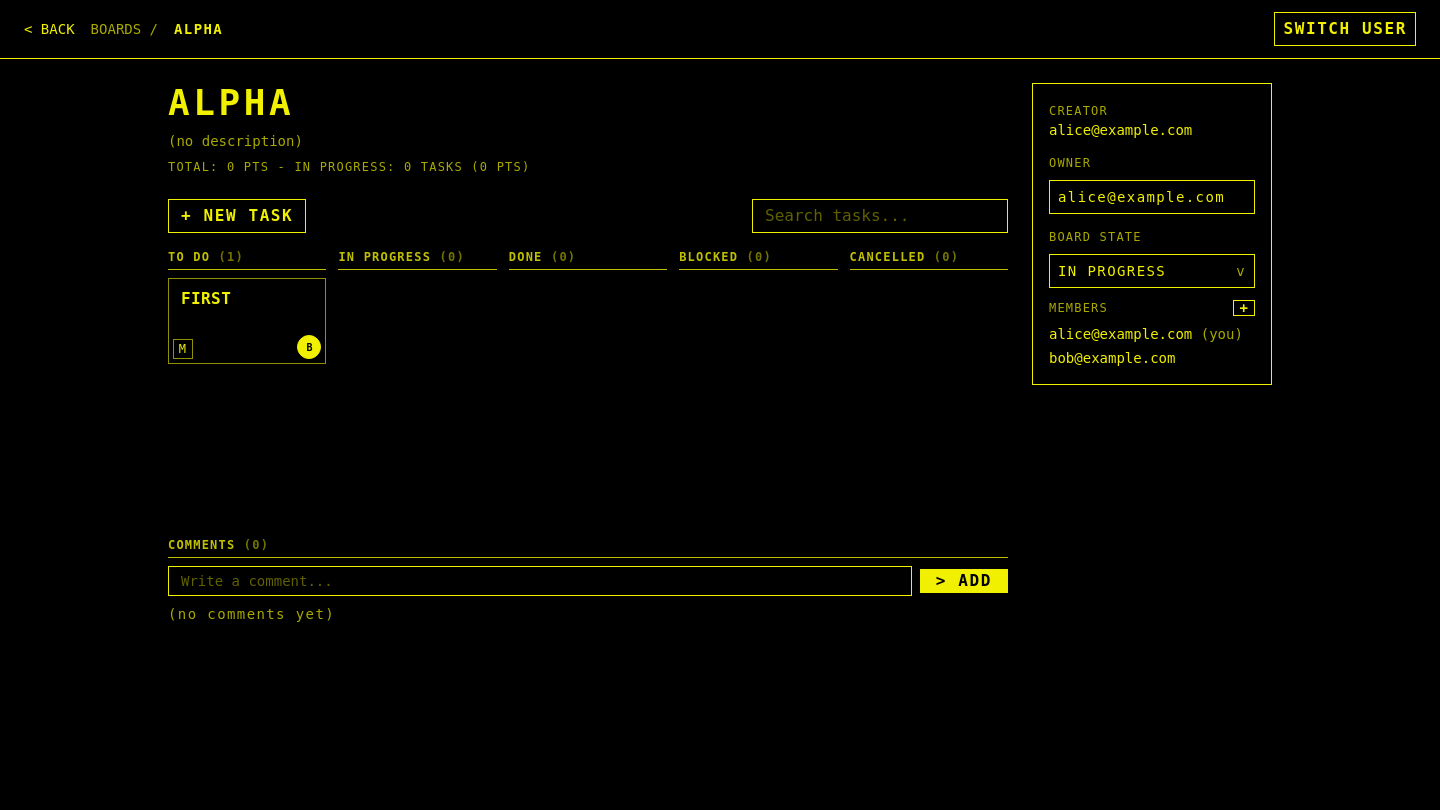
Test: BoardDetailPage › explains the Done gate when the board move is rejected
Click the dropdown named "Board state" at (1152, 271), box [1049,254,1255,288]
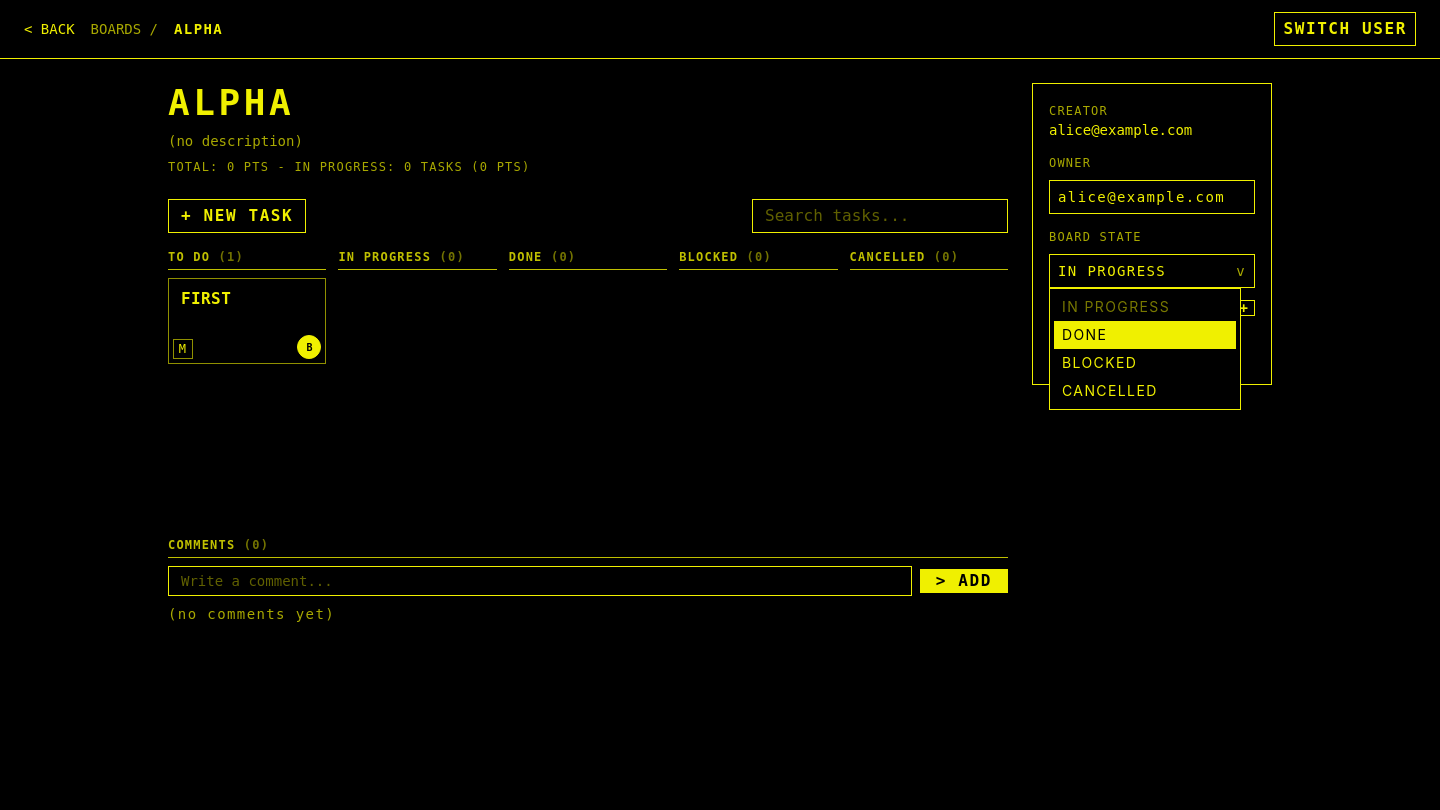
Click the option "DONE" at (1145, 335), box [1054,321,1236,349]
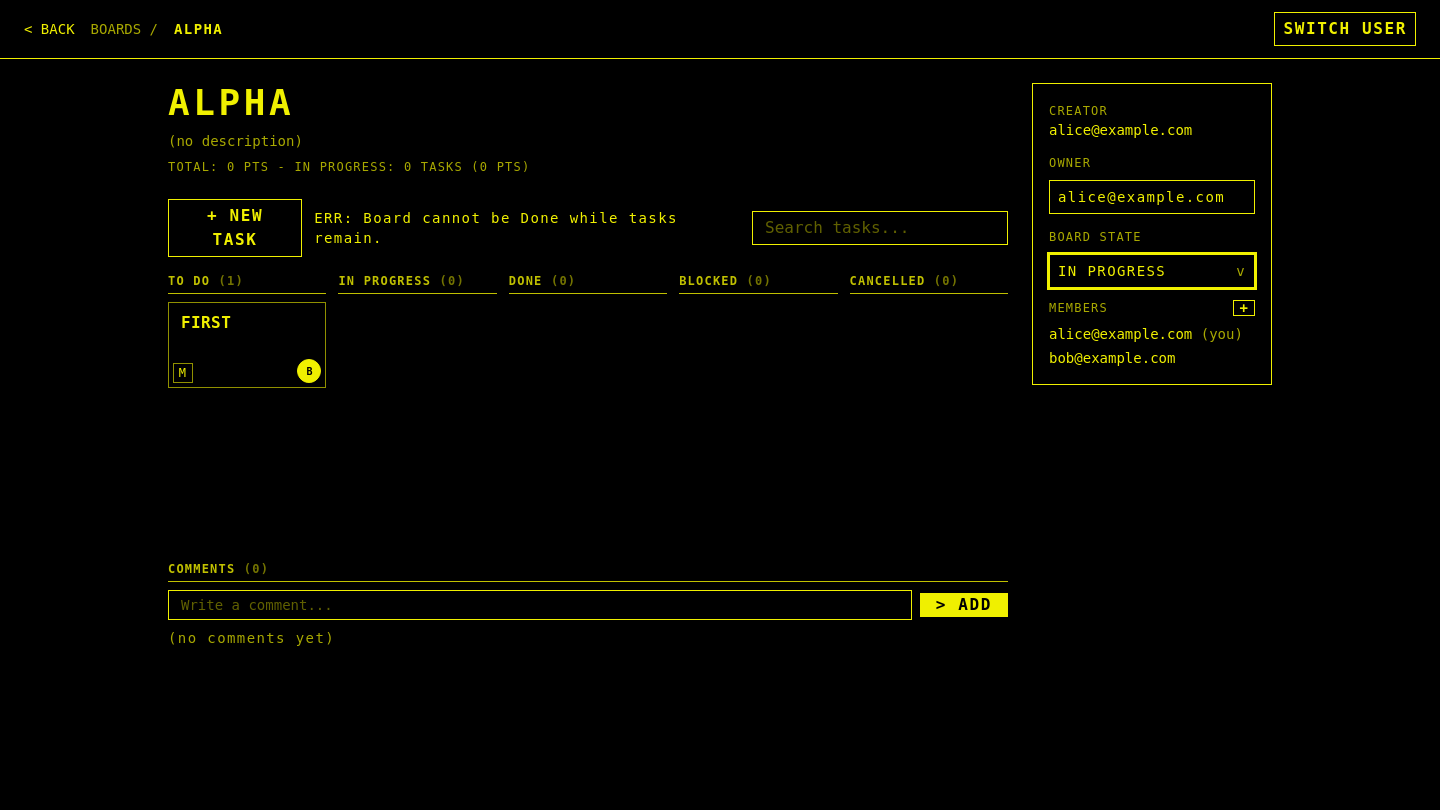
Expected: the text "Board cannot be Done while tasks remain." is shown, [314,210,678,246]
